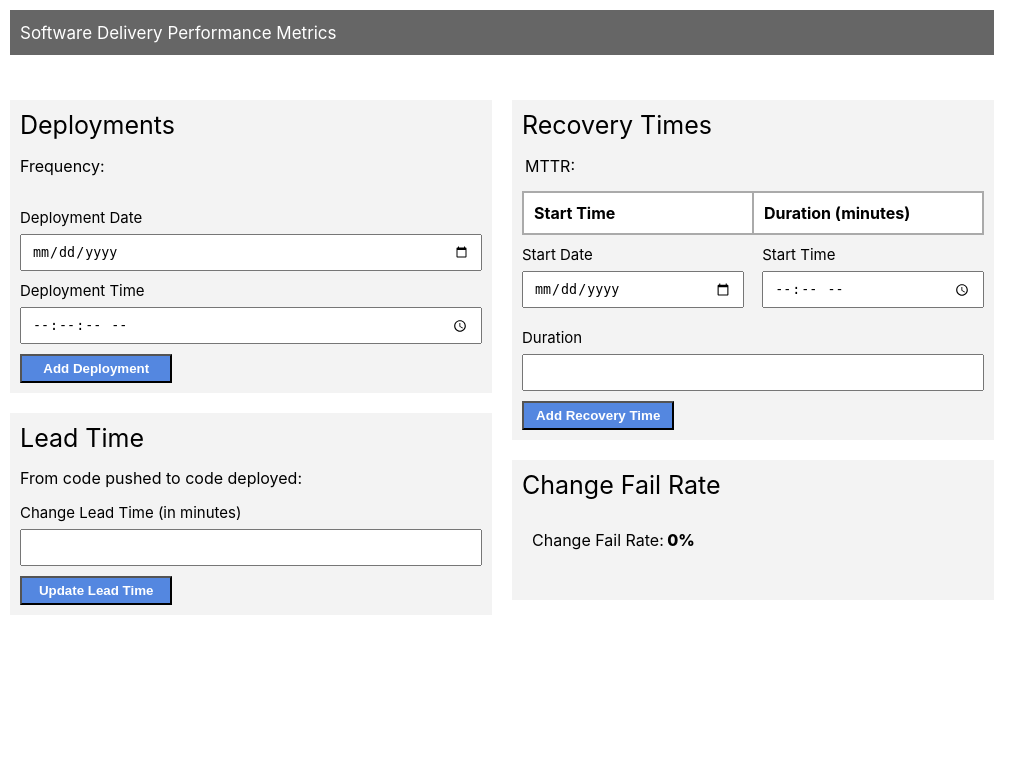
Test: entering negative value in duration is handled
The image size is (1024, 768).
Type "-4" into the field labelled "Duration".
click(753, 372); type("-4")  # box [522,354,984,391]
Then press Enter
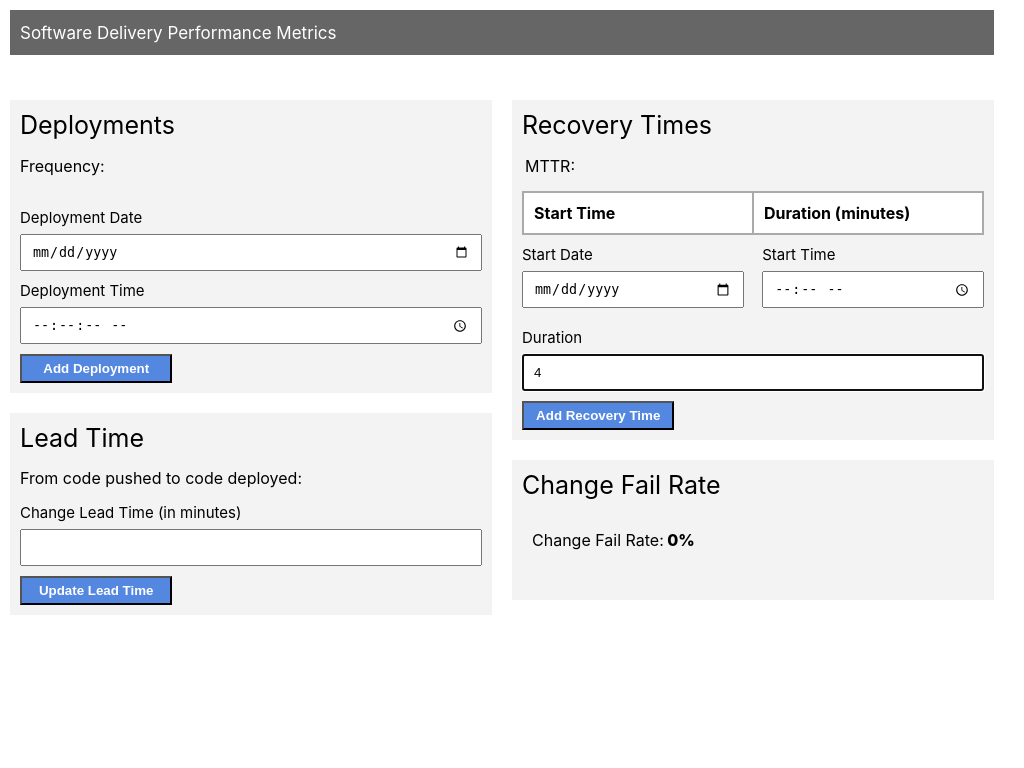
expect the field labelled "Duration" holds "4": met, box [522,354,984,391]
